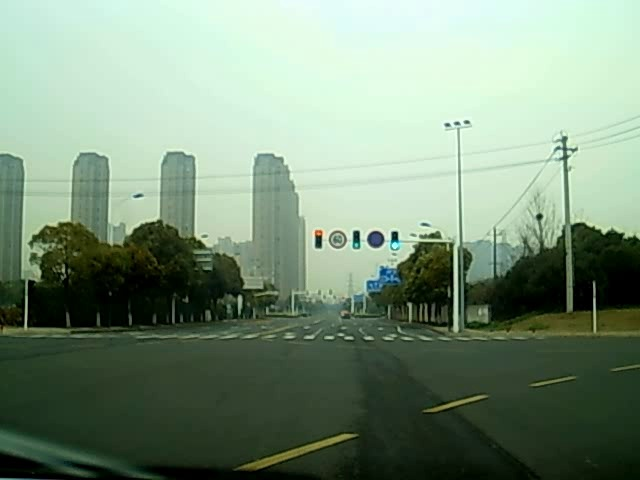Traffic_Light_go: (353, 231, 361, 253), (391, 232, 397, 255)
Traffic_Light_stop: (314, 228, 323, 249)
